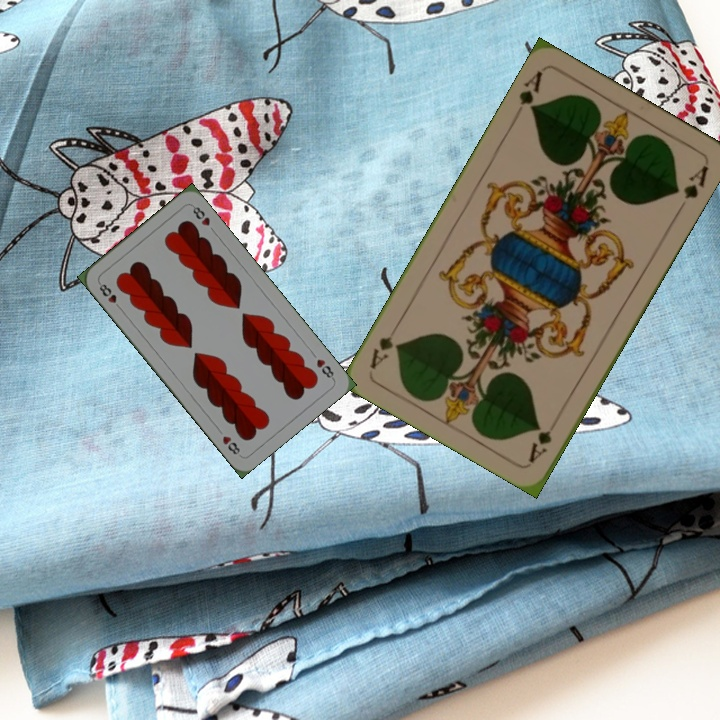GA: (510, 66, 546, 122), (525, 426, 555, 465)
H8: (94, 278, 124, 312), (312, 355, 337, 382)
